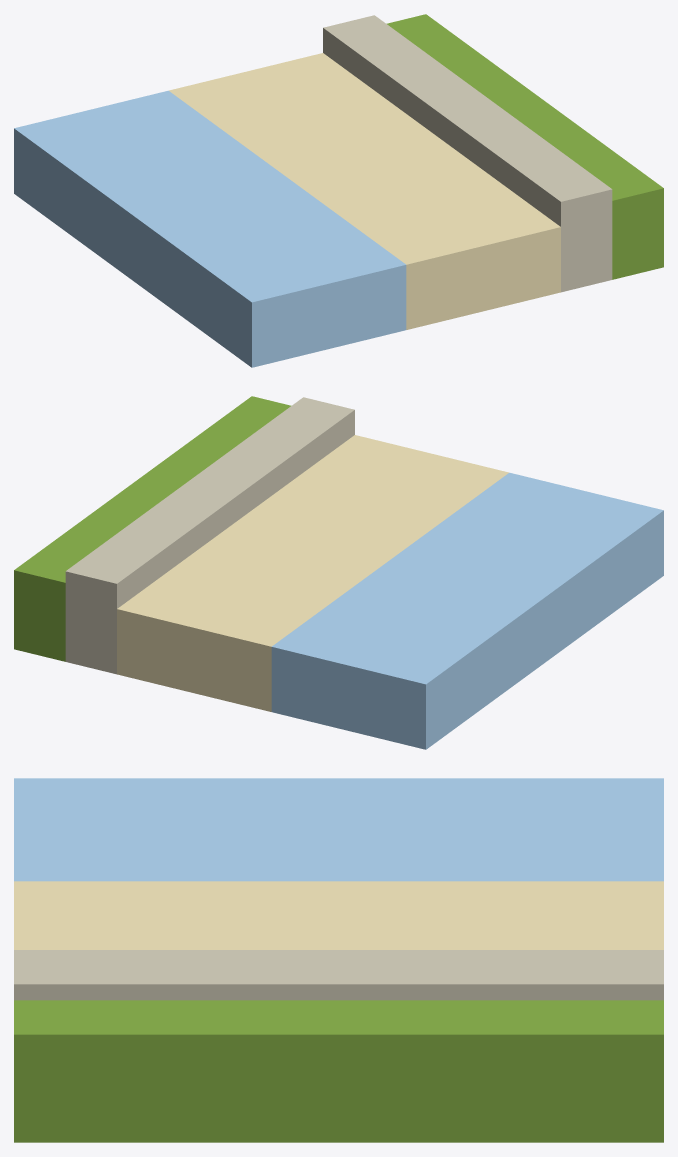
Rendered from tile163.fbx.
The picture shows the model from 3 angles, top to bottom: view 1: azimuth 30°, elevation 25°; view 2: azimuth 150°, elevation 25°; view 3: azimuth 270°, elevation 25°; orthographic projection. The views are drawn at different scales.
Visible parts, largest first — view 1: tile163; view 2: tile163; view 3: tile163.
Boxes of the visible parts, x1,y1,x2,y2 form: tile163: (14,14,663,367); tile163: (14,396,663,749); tile163: (14,778,663,1142).
Size of the model in its own units: 10 by 2.1 by 10.
